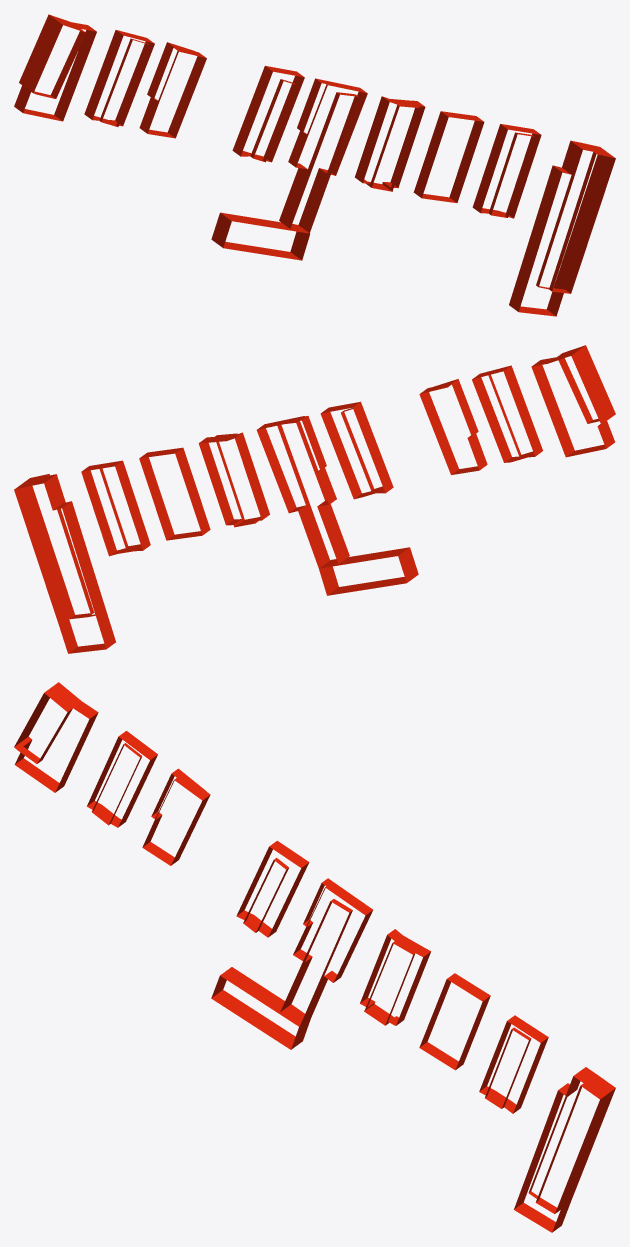
File: Wall_Hini_2.0_Slope_0.5.obj
3 renders of one model, top to bottom at view 1: azimuth 30°, elevation 25°; view 2: azimuth 150°, elevation 25°; view 3: azimuth 330°, elevation 25°, orthographic.
Visible parts, largest first — view 1: 1, 5, 9, 6, 3, 2, 8, 7, 4; view 2: 1, 5, 9, 6, 3, 2, 8, 4, 7; view 3: 5, 1, 9, 3, 2, 6, 8, 4, 7.
Part boxes in pixels (left/top/right/bottom): 1: left=509, top=140, right=615, bottom=316; 5: left=211, top=78, right=367, bottom=260; 9: left=14, top=14, right=96, bottom=121; 6: left=232, top=66, right=304, bottom=162; 3: left=354, top=96, right=425, bottom=191; 2: left=472, top=124, right=541, bottom=218; 8: left=84, top=30, right=154, bottom=126; 7: left=139, top=42, right=206, bottom=138; 4: left=413, top=111, right=484, bottom=202; 1: left=14, top=474, right=115, bottom=653; 5: left=256, top=416, right=418, bottom=595; 9: left=531, top=345, right=615, bottom=457; 6: left=320, top=401, right=393, bottom=499; 3: left=198, top=432, right=269, bottom=527; 2: left=81, top=460, right=150, bottom=556; 8: left=472, top=365, right=542, bottom=462; 4: left=139, top=447, right=210, bottom=540; 7: left=419, top=379, right=487, bottom=474; 5: left=211, top=878, right=372, bottom=1049; 1: left=514, top=1067, right=615, bottom=1232; 9: left=14, top=682, right=98, bottom=792; 3: left=360, top=929, right=430, bottom=1025; 2: left=479, top=1015, right=548, bottom=1113; 6: left=236, top=840, right=309, bottom=937; 8: left=87, top=731, right=157, bottom=827; 4: left=419, top=973, right=490, bottom=1070; 7: left=142, top=768, right=210, bottom=865.
Size of the model in its own units: 136 by 92 by 6.31.
